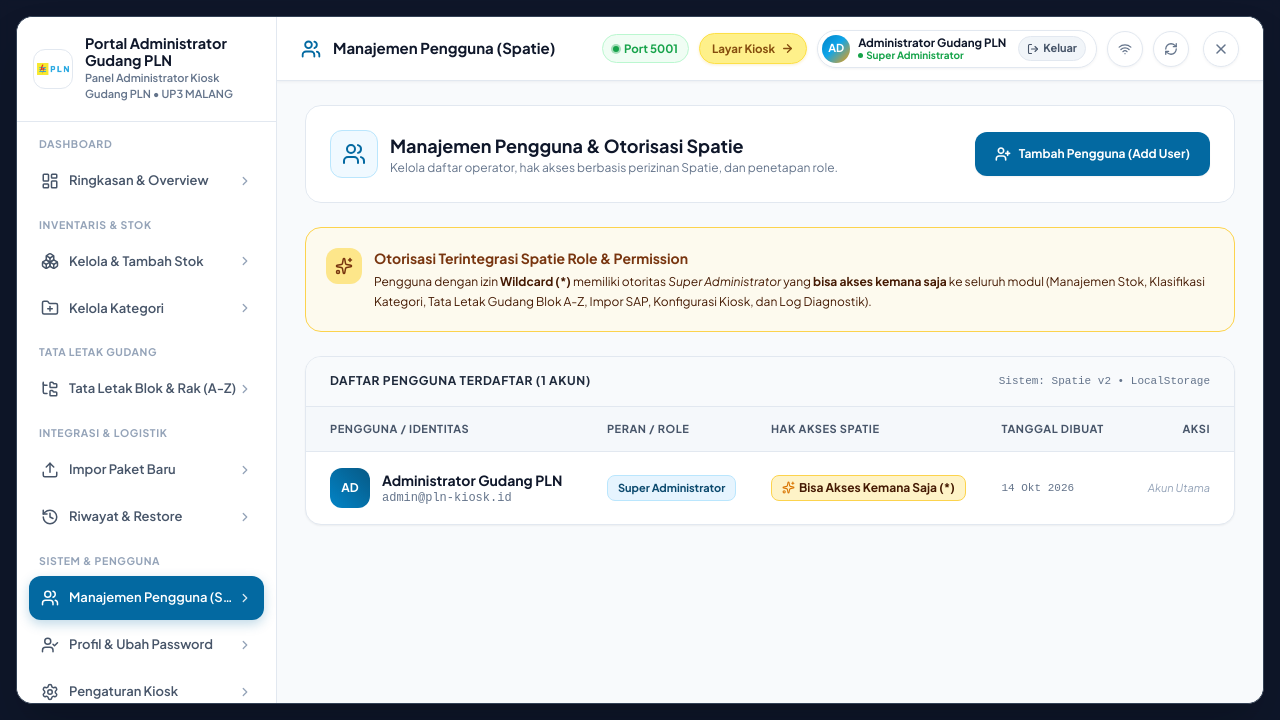
it: Admin Console: Profile & Spatie User Management UI Flow › renders Users tab with Spatie wildcard permissions and adds user with access everywhere
The image size is (1280, 720).
expect the heading "Manajemen Pengguna & Otorisasi Spatie" is shown: met, box [390,134,744,157]
expect the text "Bisa Akses Kemana Saja (*)" is shown: met, box [799,480,955,496]
Note: Open Add User modal
Click the button "Tambah Pengguna (Add User)": (1092, 154) [975,132,1210,176]
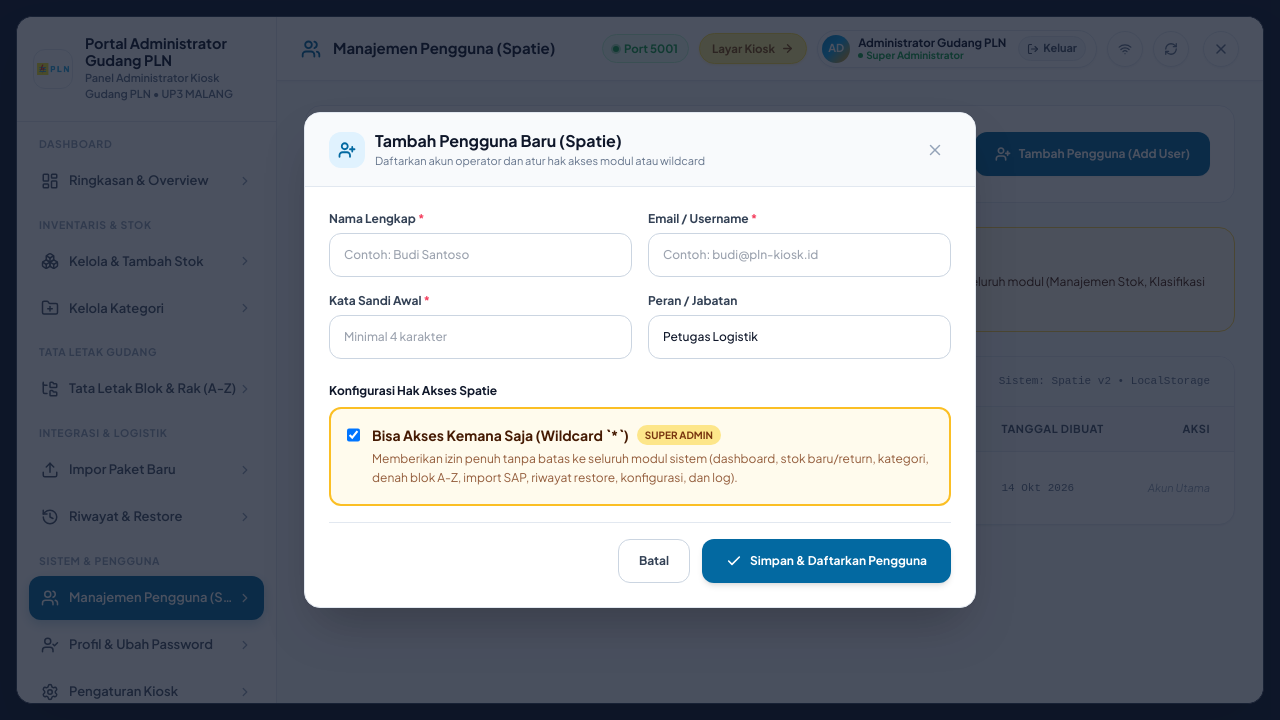
expect the heading "Tambah Pengguna Baru (Spatie)" is shown: met, box [375,130,622,151]
Note: Fill new user form
In the field with placeholder "Contoh: Budi Santoso": (480, 255) [329,233,632,277], type "Ahmad Fauzi"
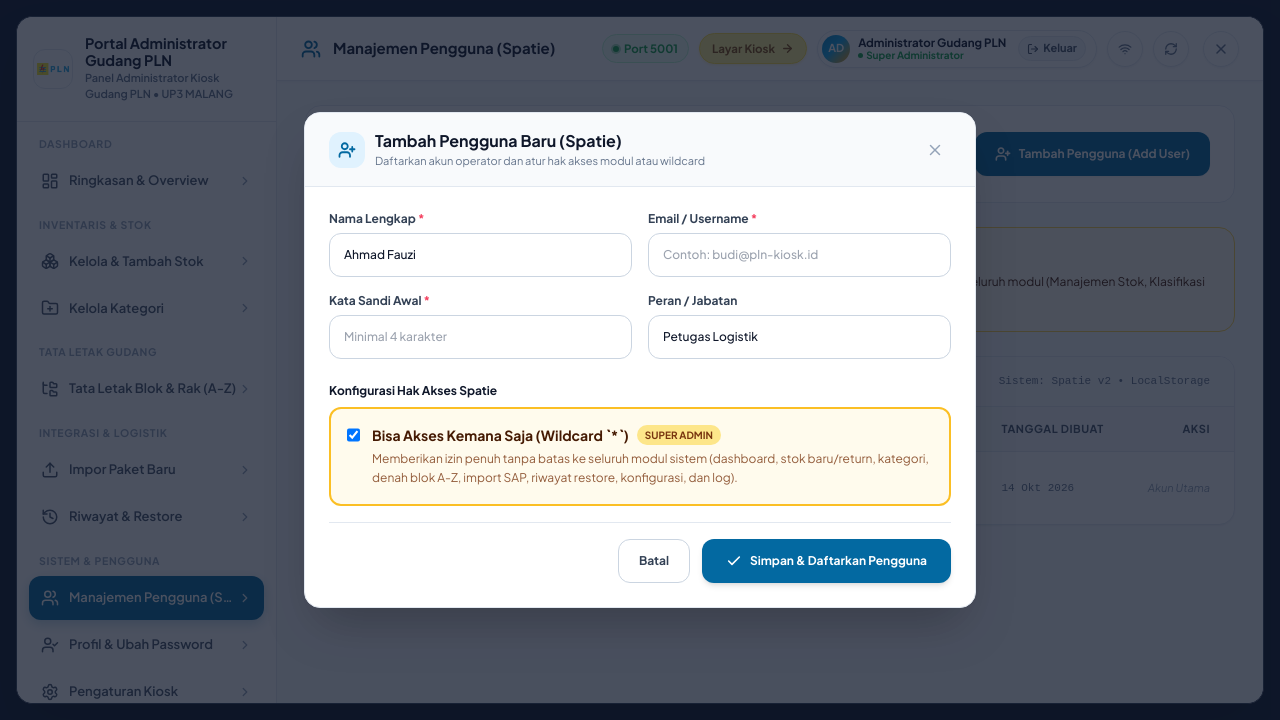
In the field with placeholder "Contoh: budi@pln-kiosk.id": (800, 255) [648,233,951,277], type "ahmad@pln-kiosk.id"
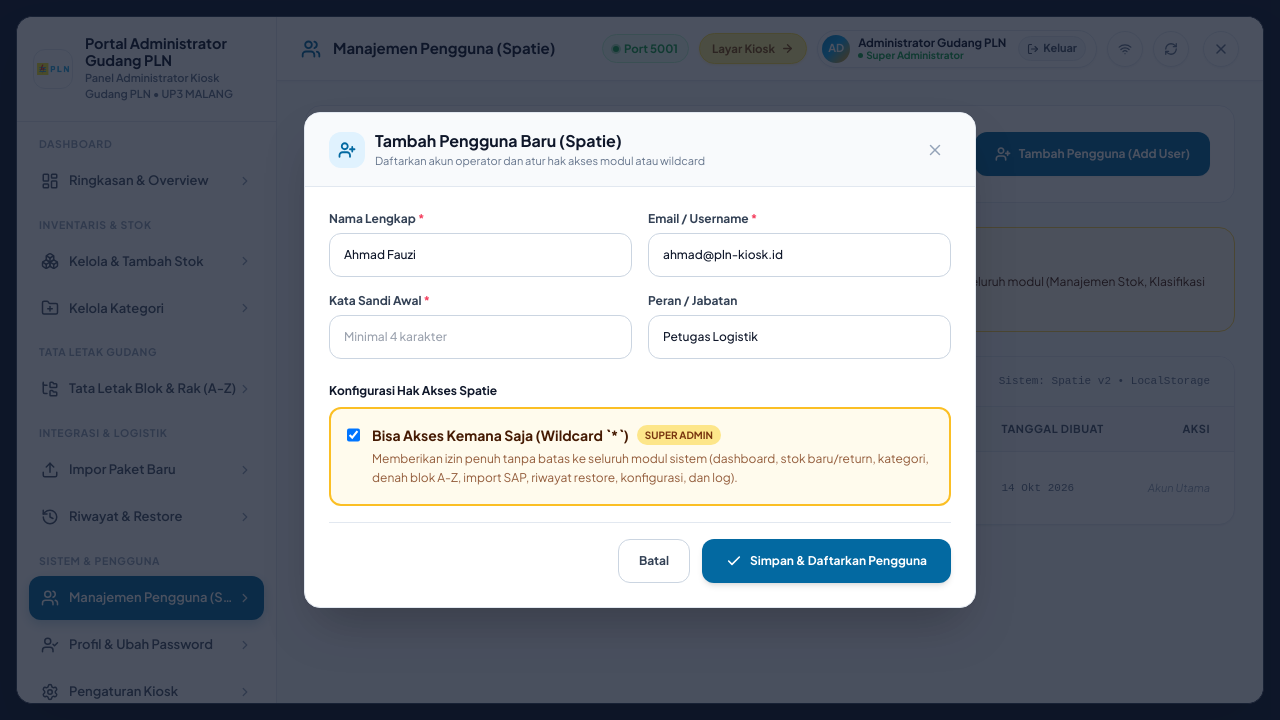
In the password field with placeholder "Minimal 4 karakter": (480, 337) [329,315,632,359], type "fauzi2026"
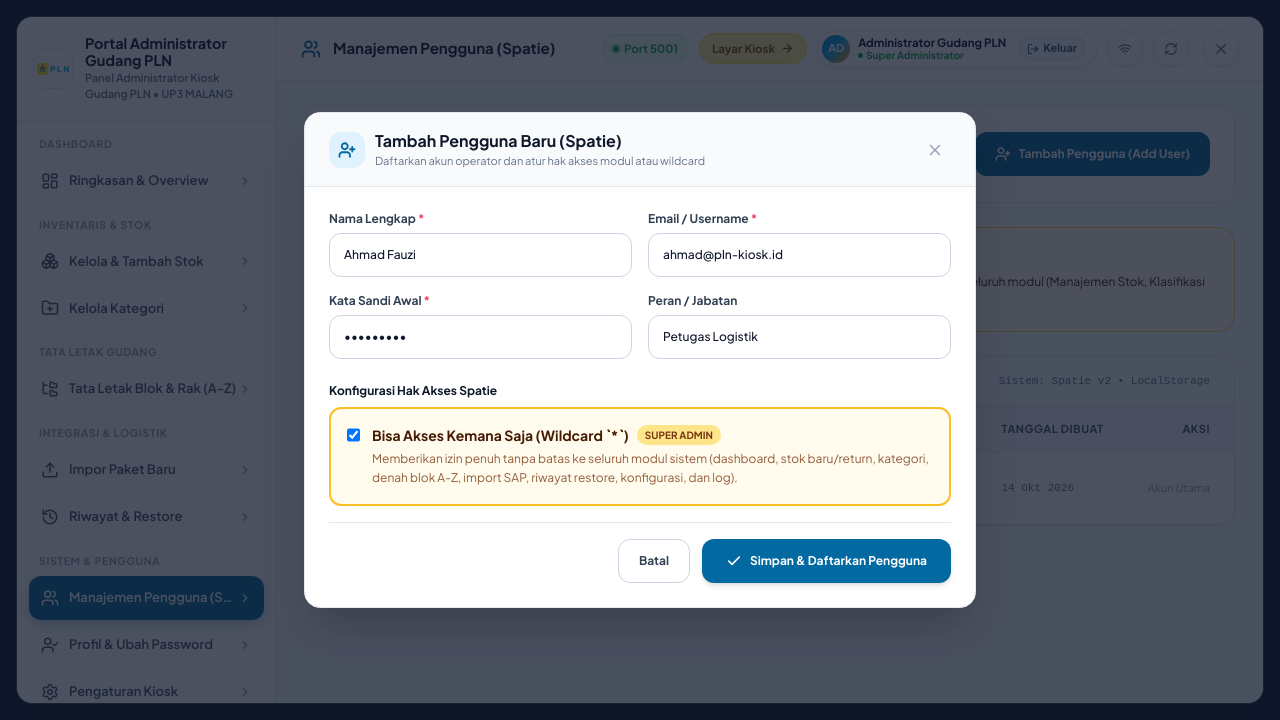
expect the checkbox labelled "Bisa Akses Kemana Saja (Wildcard `*`)" is checked: met, box [347,427,360,443]
Note: Submit new user
Click the button "Simpan & Daftarkan Pengguna": (826, 561) [702,539,951,583]
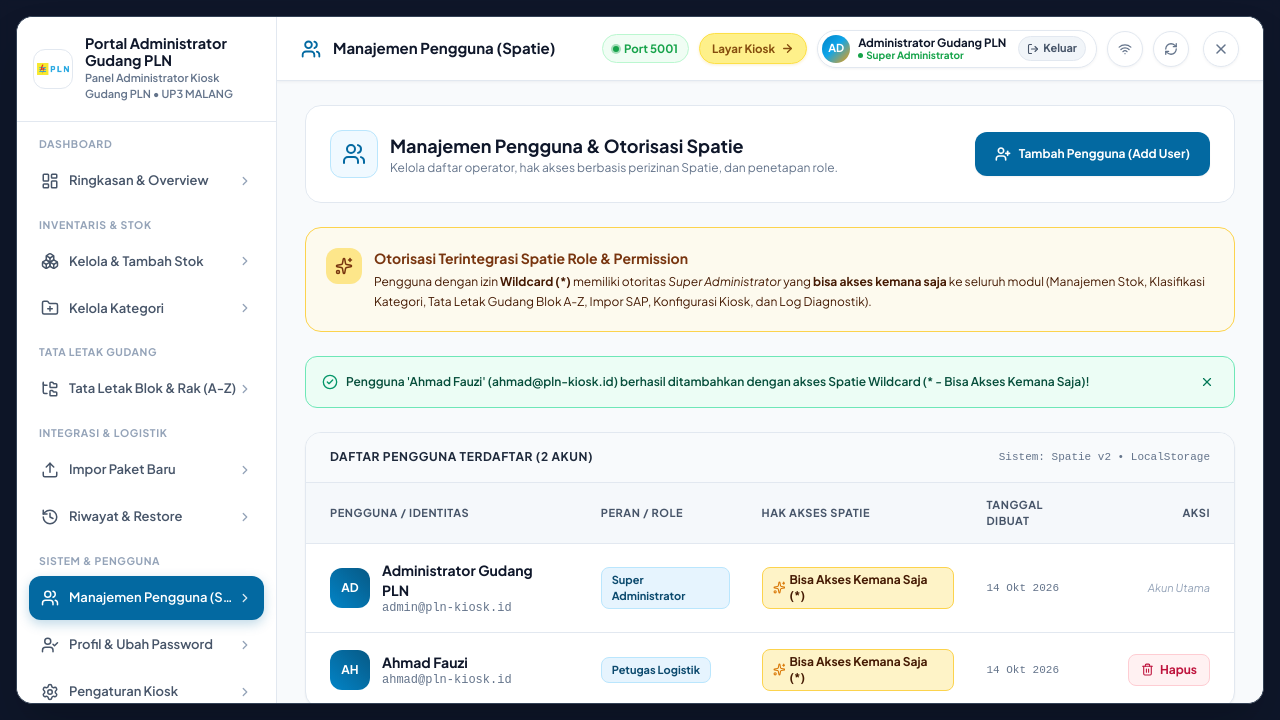
expect the text "berhasil ditambahkan dengan akses Spatie Wildcard" is shown: met, box [346,374,1090,389]
expect the text "Ahmad Fauzi" is shown: met, box [382,652,468,670]
expect the text "ahmad@pln-kiosk.id" is shown: met, box [382,672,512,688]
